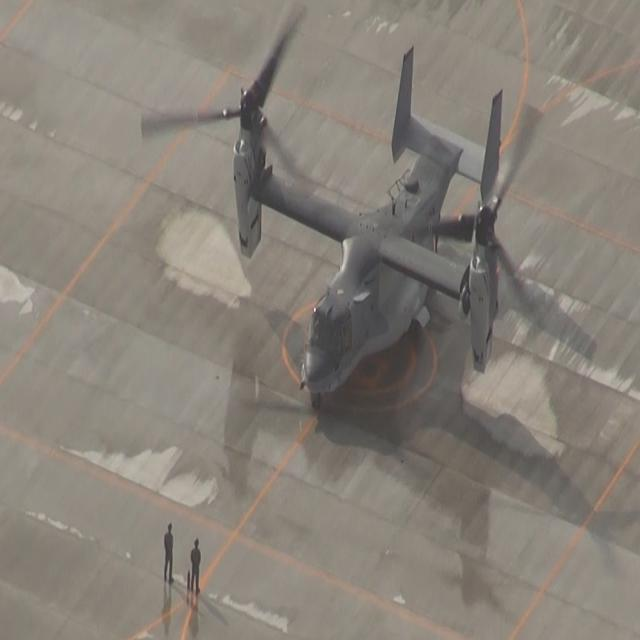MIL_Plane: (139, 0, 545, 276)
